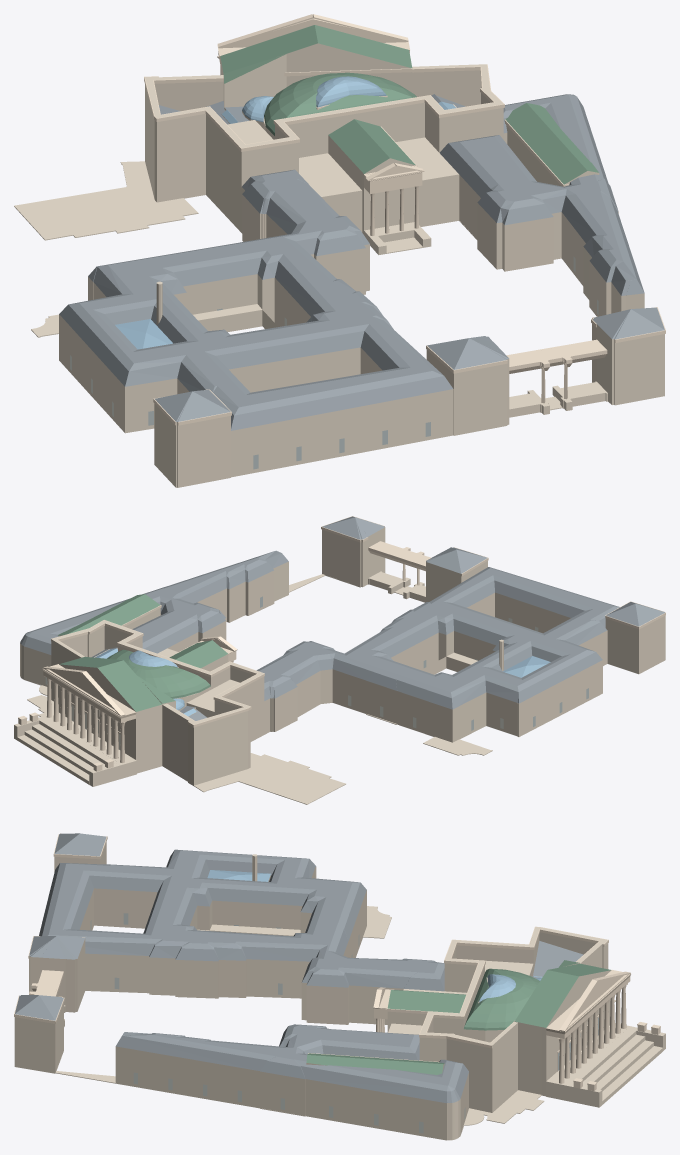
The picture shows the model from 3 angles, top to bottom: view 1: azimuth 30°, elevation 25°; view 2: azimuth 150°, elevation 25°; view 3: azimuth 270°, elevation 25°; orthographic projection. The views are drawn at different scales.
Visible parts, largest first — view 1: stone, roof, metal, trim, glass, window; view 2: stone, roof, trim, metal, glass, window; view 3: stone, roof, trim, metal, glass, window.
Part boxes in pixels (box(x1,y1,x2,y2)): stone: box(14, 43, 664, 487); roof: box(59, 94, 664, 430); metal: box(220, 25, 598, 184); trim: box(144, 14, 665, 425); glass: box(115, 76, 455, 349); window: box(70, 256, 598, 469); stone: box(14, 526, 665, 804); roof: box(20, 516, 664, 720); trim: box(18, 516, 665, 771); metal: box(58, 594, 227, 711); glass: box(95, 648, 550, 716); window: box(45, 596, 588, 749); stone: box(14, 842, 665, 1140); roof: box(15, 833, 583, 1103); trim: box(14, 833, 660, 1091); metal: box(306, 960, 610, 1074); glass: box(207, 870, 542, 1002); window: box(90, 913, 598, 1133).
Size of the model in its own units: 164 by 27.4 by 178.
